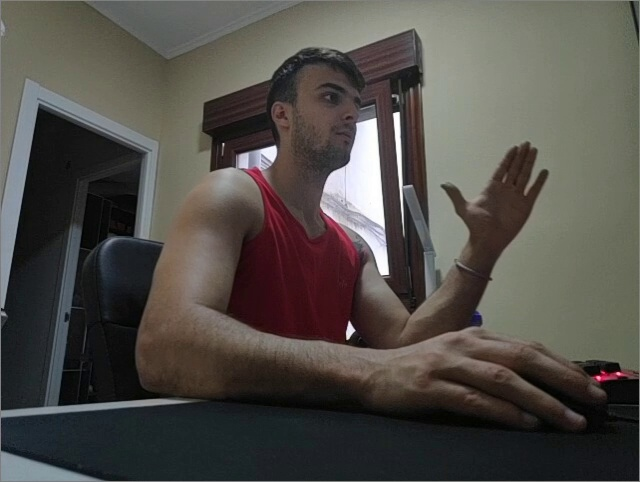Palm: (441, 137, 550, 255)
